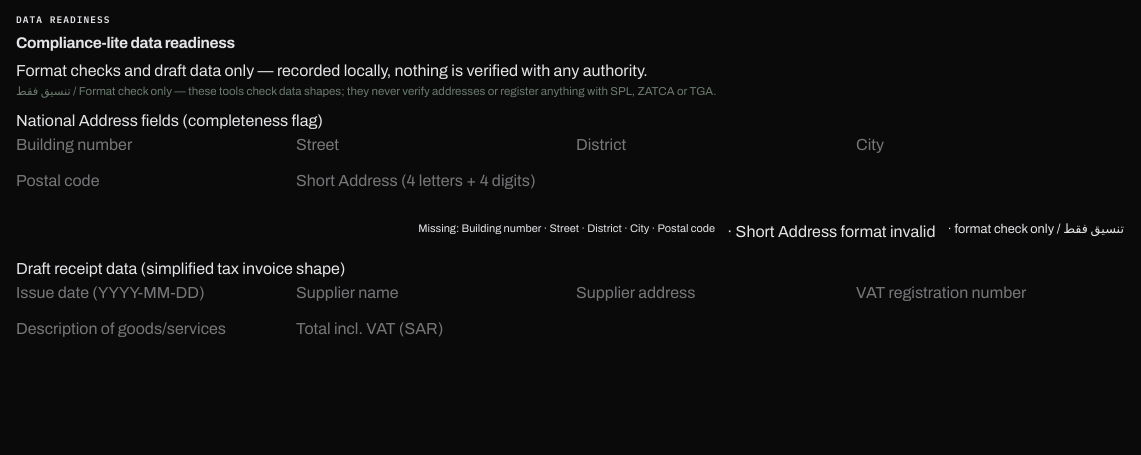
Test: ComplianceLiteView › shows validation errors when required fields missing
This screenshot has width=1141, height=455.
In the field labelled "Total incl. VAT (SAR)": (430, 329) top-left (296, 317), bottom-right (564, 341), type "115"
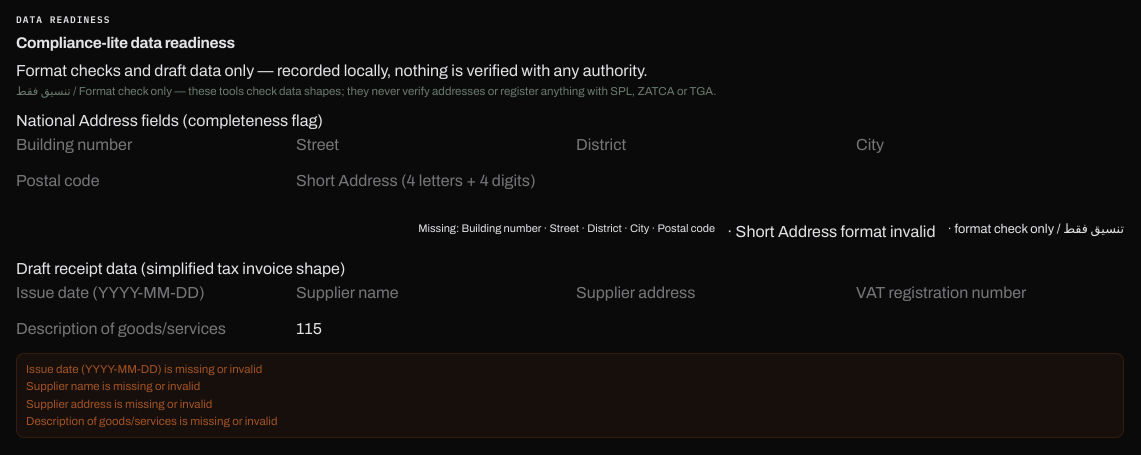
Now the message shows "missing or invalid", box top-left (26, 363), bottom-right (262, 375)
